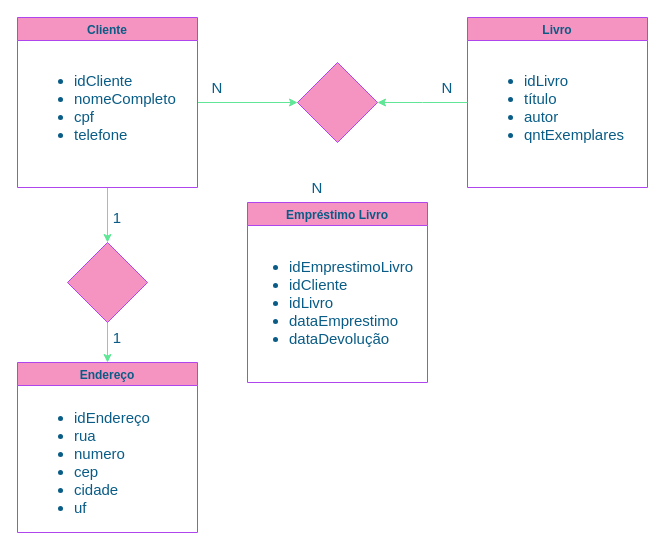
Image size: 665x550. Some labels were removed from this diagram. The shapes that lost their labels are listed below. From the top down, each one's centre as x and y in pixels, then its label:
(x=337, y=102): EMPRÉSTIMO
(x=107, y=282): POSSUI
